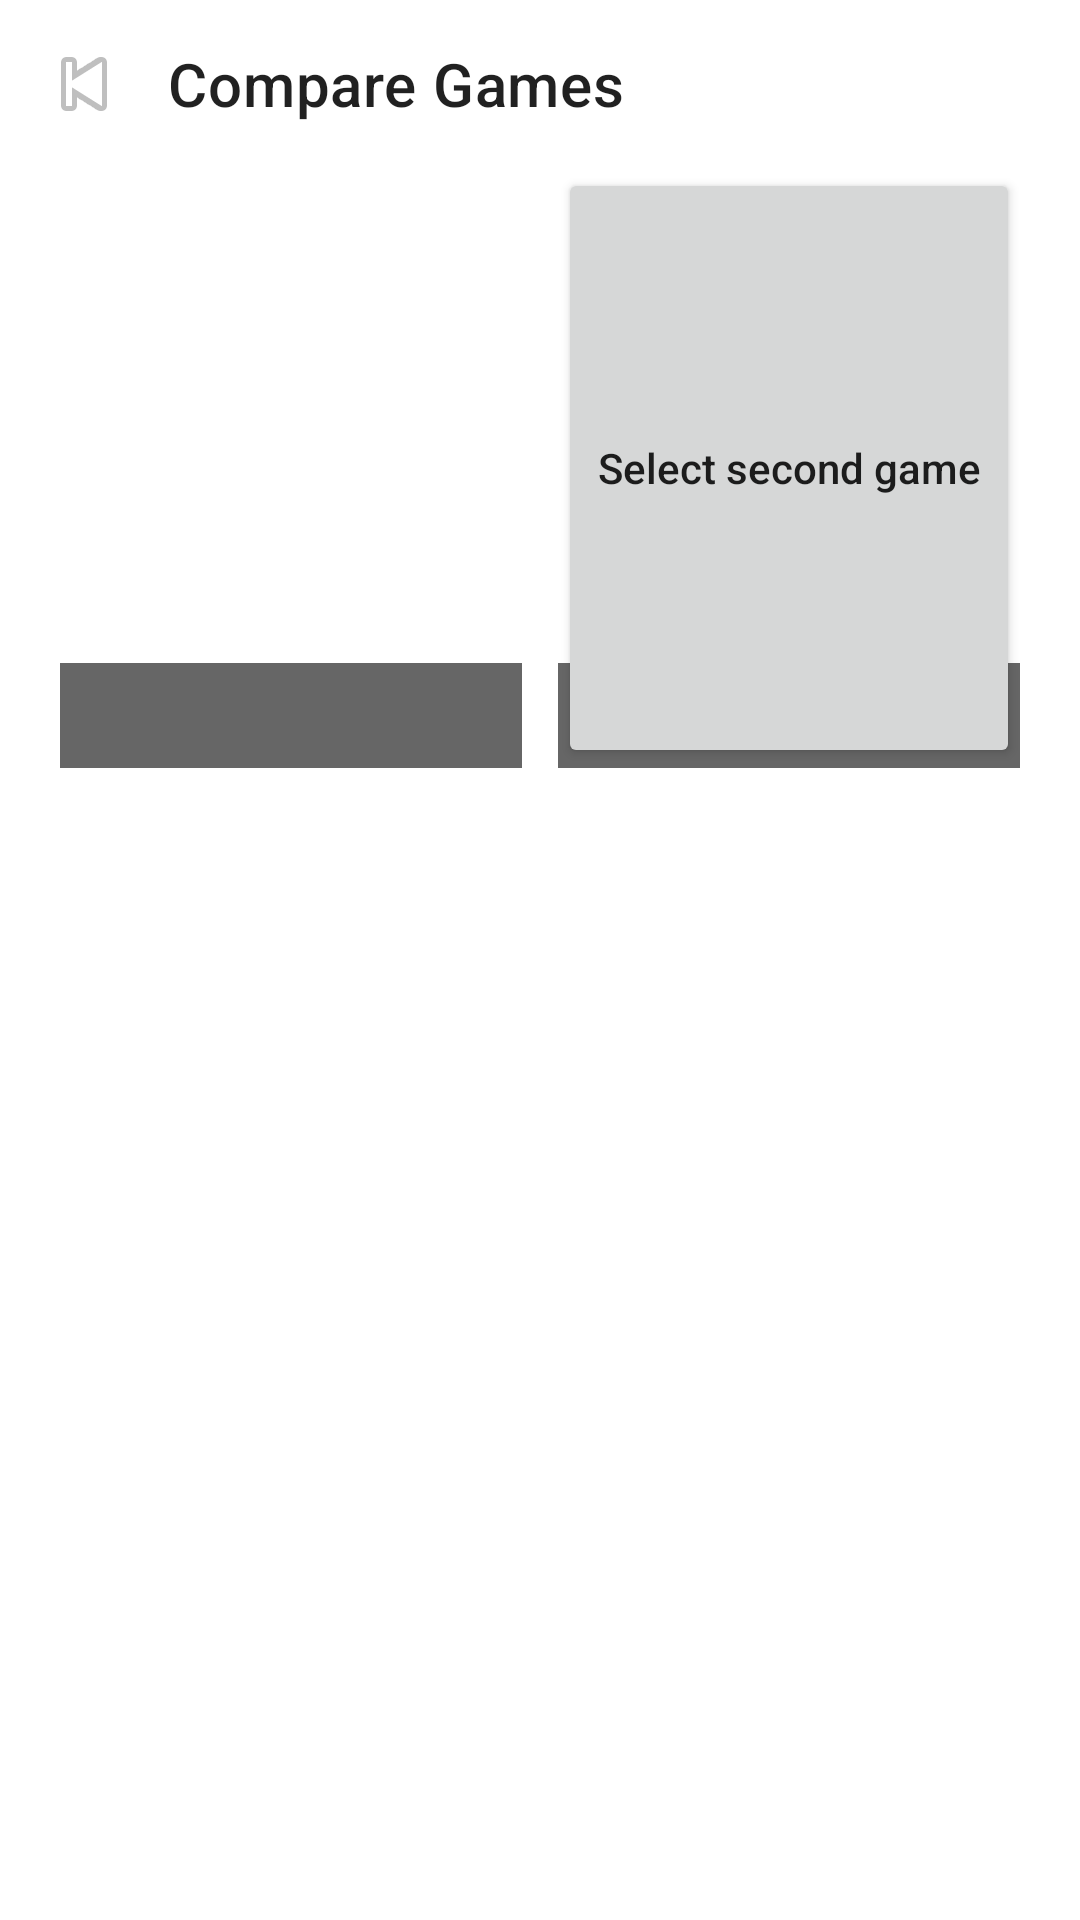

Named icons in this screenshot (1080 x 1920) and their centers, (x=x, y=y):
Back: (x=84, y=84)
